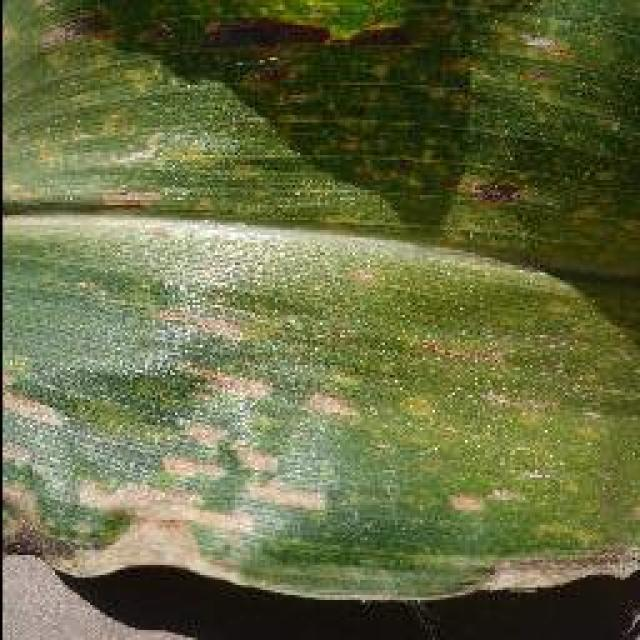Corn_Grey_Leaf_Spot: (0, 110, 640, 580)
